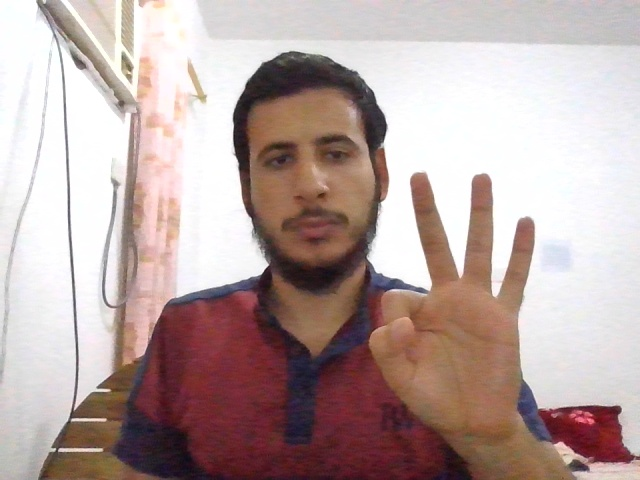Three: (369, 173, 537, 443)
